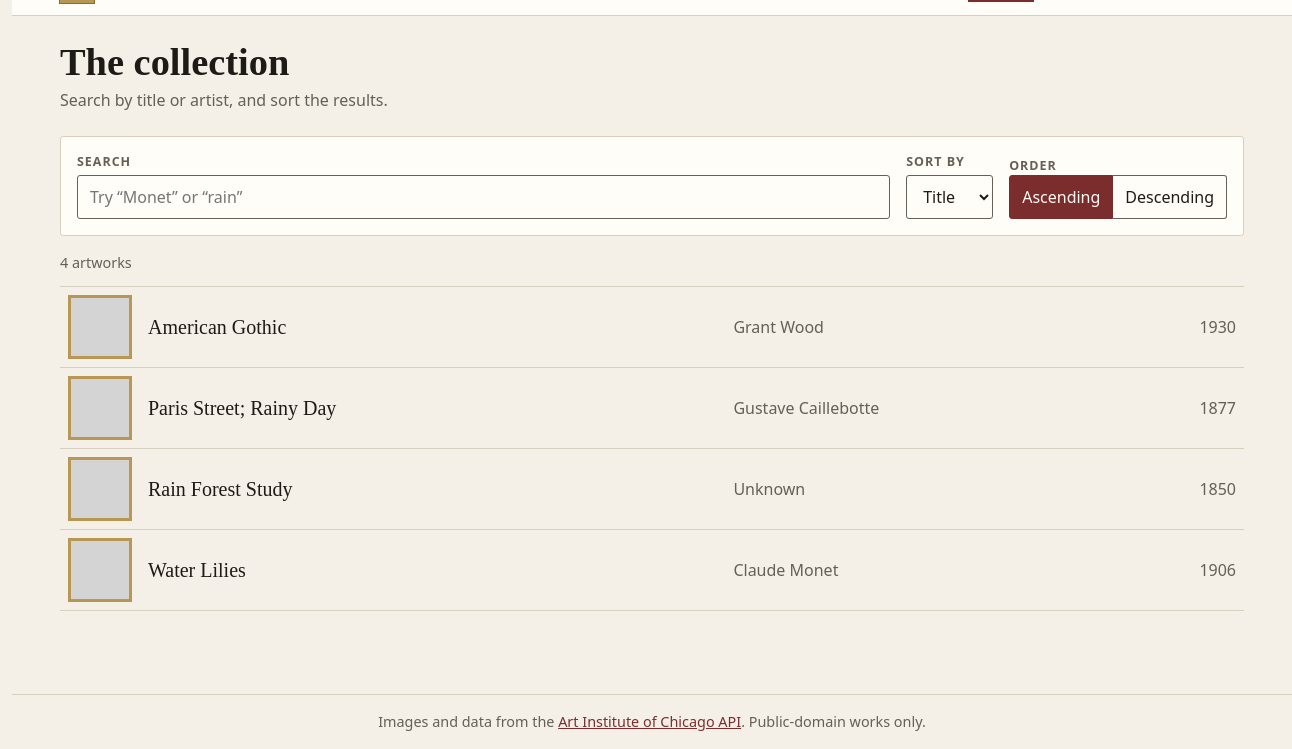
Test: ListView › filters as the visitor types
The width and height of the screenshot is (1292, 749).
Check: the text "4 artworks" is shown, box [60,252,132,274]
Type "rain" into the search field labelled "Search" at (484, 198), box [77,176,890,220]
(page scrolled)
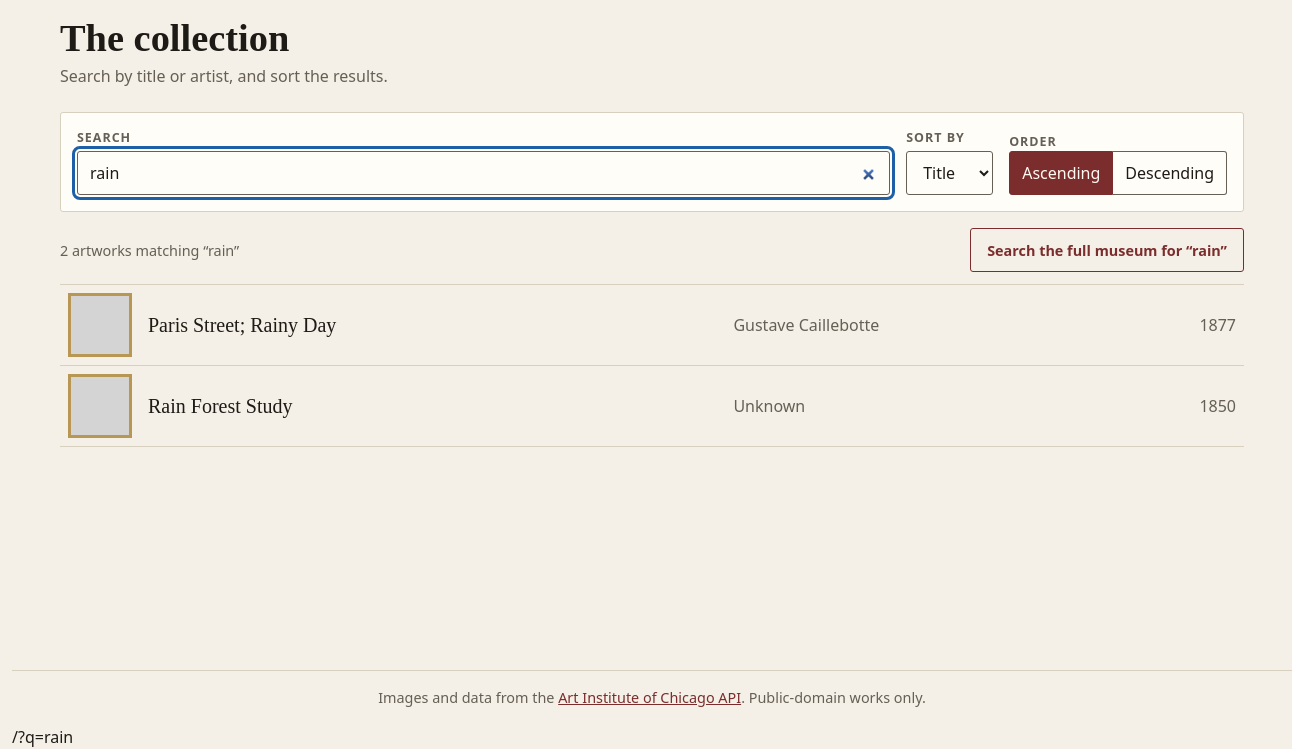
Check: the text "2 artworks matching “rain”" is shown, box [60,240,239,261]
Check: the text with test id "address" reads "/?q=rain", box [12,726,73,748]
